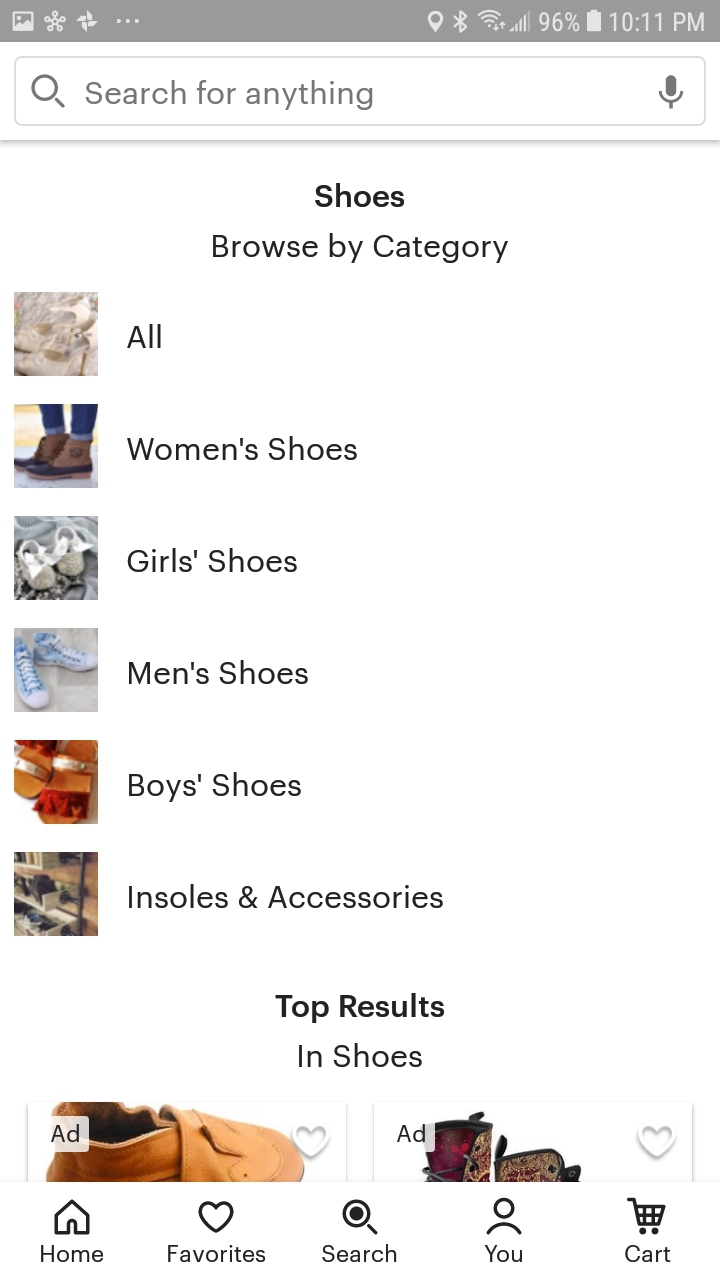EditText: (14, 56, 706, 127)
Icon: (626, 1196, 666, 1236), (486, 1197, 523, 1236), (54, 1198, 91, 1235), (342, 1199, 379, 1236), (292, 1122, 331, 1157), (637, 1122, 676, 1157), (198, 1200, 235, 1234), (32, 75, 66, 109), (658, 76, 684, 110)
Image: (374, 1101, 693, 1182), (28, 1101, 347, 1182), (14, 852, 99, 937), (14, 740, 99, 825), (15, 628, 99, 713), (15, 516, 99, 601), (15, 404, 99, 489), (15, 292, 99, 377)
Text: (213, 233, 509, 265), (87, 80, 374, 111), (129, 883, 444, 909), (127, 436, 358, 462), (129, 771, 302, 803), (275, 992, 445, 1024), (129, 660, 309, 686), (127, 547, 298, 573), (299, 1042, 423, 1068), (315, 183, 405, 209), (168, 1244, 266, 1263), (322, 1243, 398, 1263), (41, 1244, 105, 1263), (624, 1244, 671, 1263), (127, 324, 162, 349), (484, 1244, 523, 1263), (396, 1124, 425, 1143), (51, 1124, 80, 1143)
UpperTaskBar: (1, 1, 720, 43)
